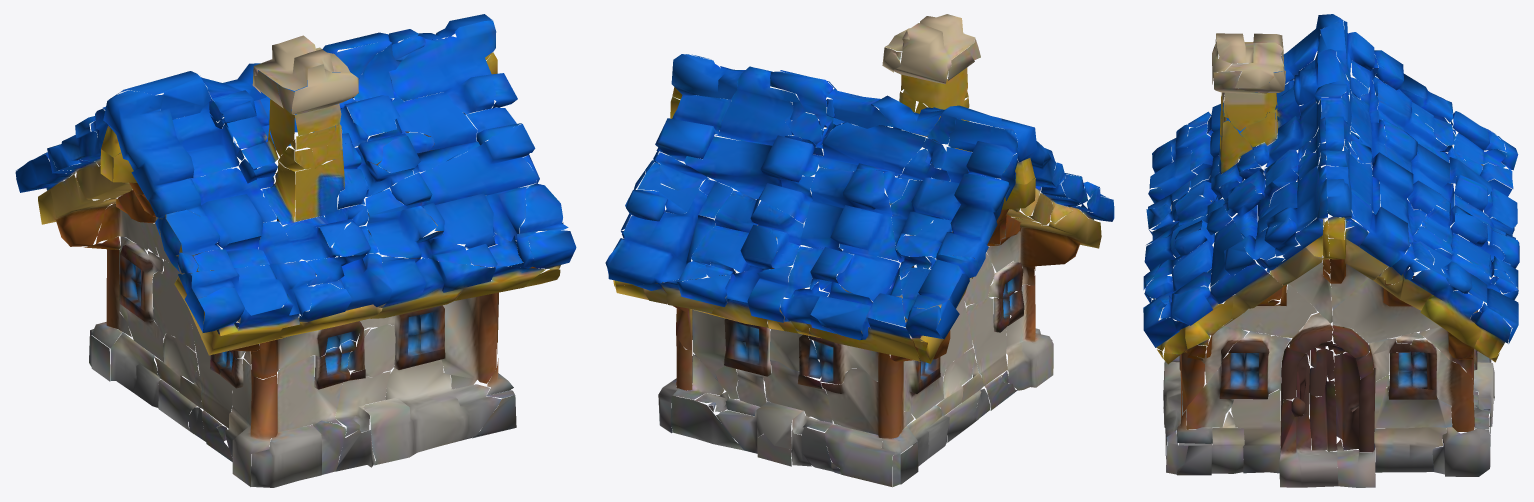
The model's file is TripoCottage_v2_t8000_tex512.glb.
3 renders of one model, left to right at view 1: azimuth 30°, elevation 25°; view 2: azimuth 150°, elevation 25°; view 3: azimuth 270°, elevation 25°, orthographic. The views are drawn at different scales.
Parts seen in each view (by area): view 1: tripo_node_92d9edbe-4fe7-4a0d-86bd-d9ebbabb6cce; view 2: tripo_node_92d9edbe-4fe7-4a0d-86bd-d9ebbabb6cce; view 3: tripo_node_92d9edbe-4fe7-4a0d-86bd-d9ebbabb6cce.
Boxes of the visible parts, left/top/right/bottom form: tripo_node_92d9edbe-4fe7-4a0d-86bd-d9ebbabb6cce: left=15, top=14, right=576, bottom=487; tripo_node_92d9edbe-4fe7-4a0d-86bd-d9ebbabb6cce: left=605, top=14, right=1114, bottom=487; tripo_node_92d9edbe-4fe7-4a0d-86bd-d9ebbabb6cce: left=1143, top=14, right=1519, bottom=487.
Size of the model in its own units: 1 by 0.9686 by 0.9051.
1 material, 1 textured.
